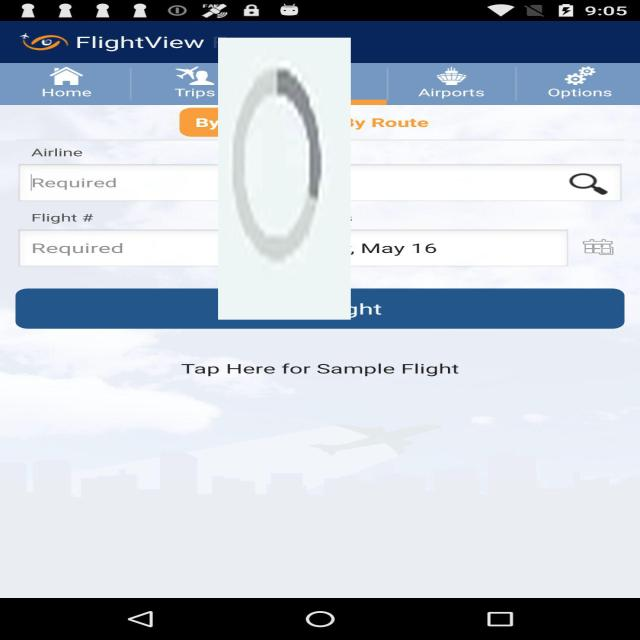misdirection: (218, 38, 351, 320)
